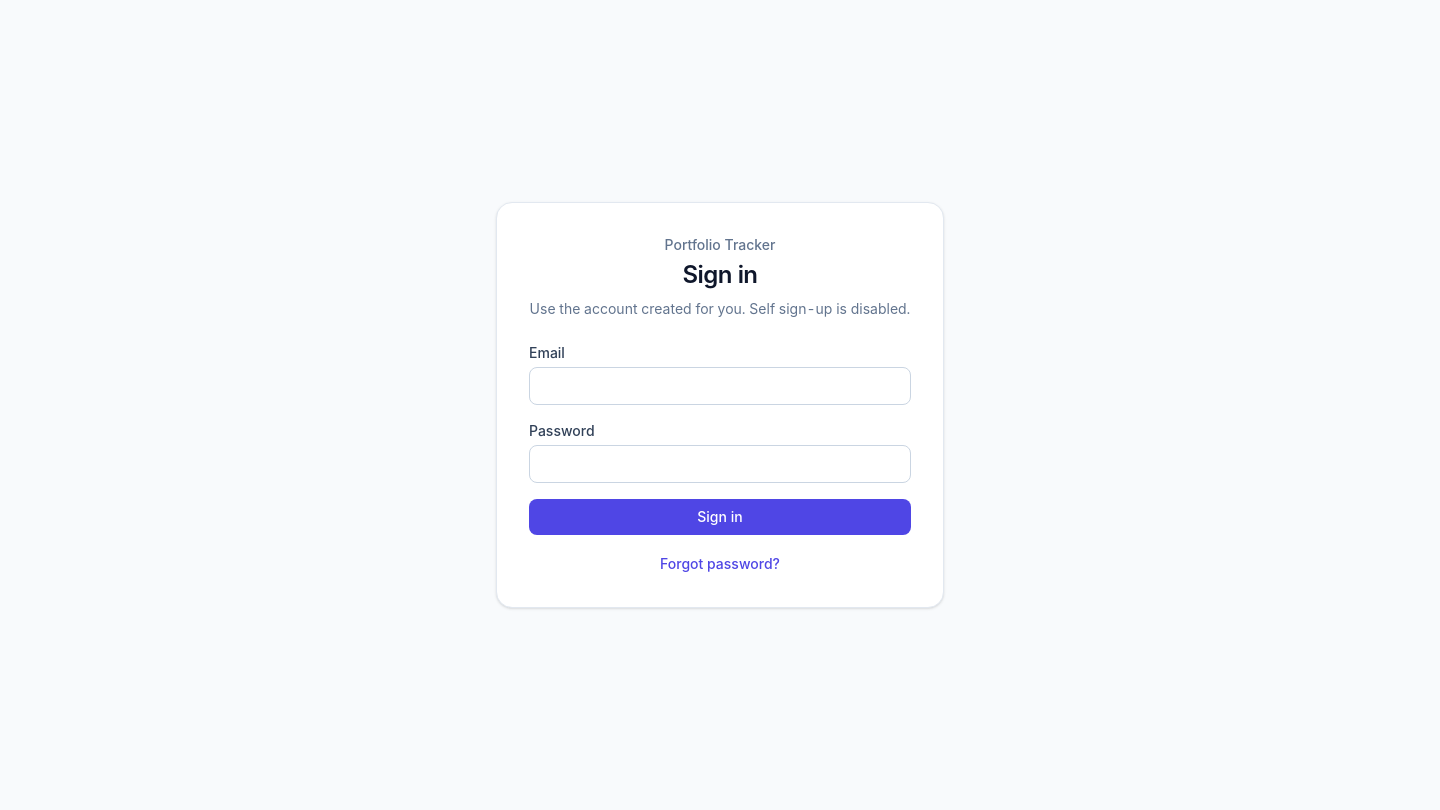
it: password sign-in › uses the typed email when the token carries none
Type "typed@example.com" into the field labelled "Email".
click(720, 386); type("typed@example.com")  # box top-left (529, 367), bottom-right (911, 405)
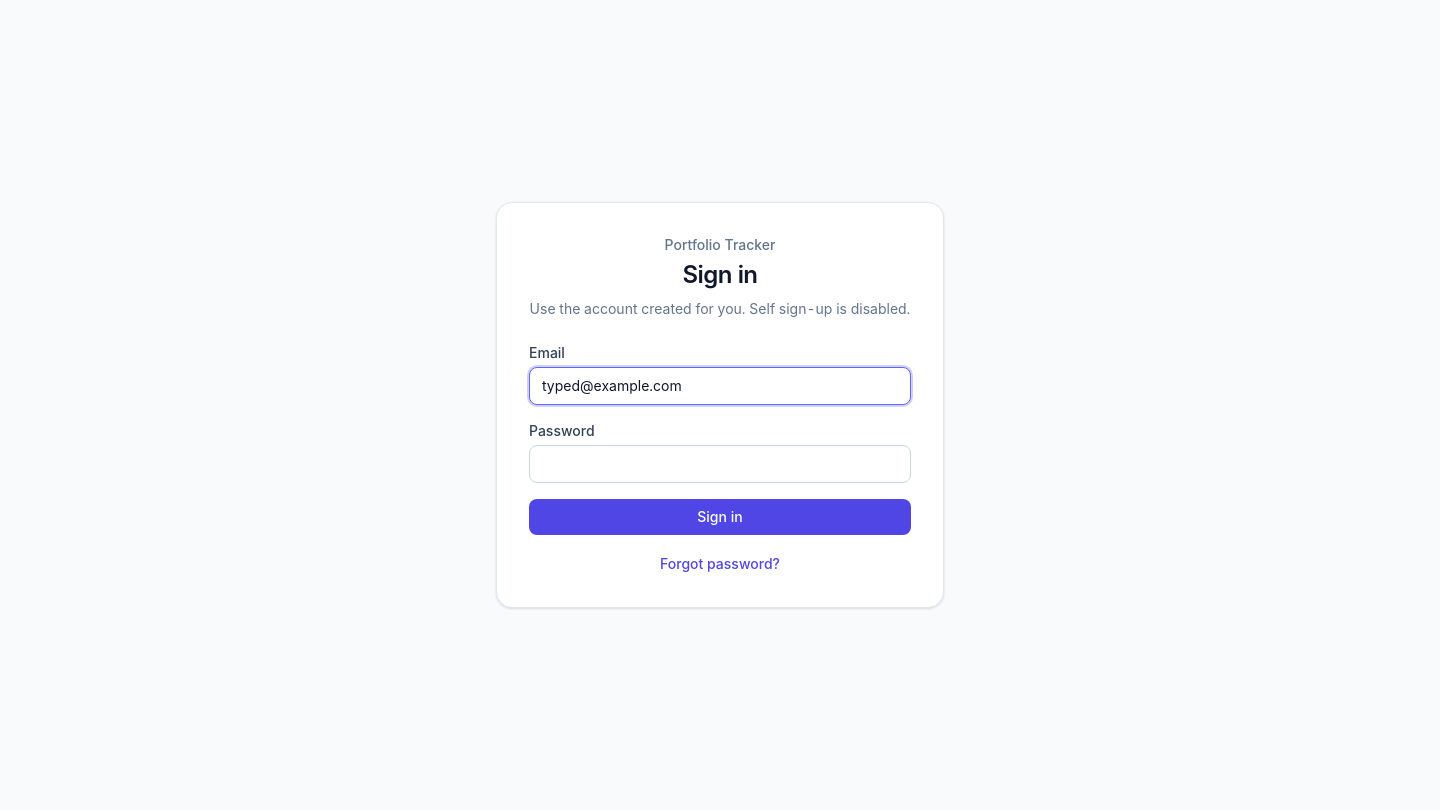
Type "whatever" into the password field labelled "Password".
click(720, 464); type("whatever")  # box top-left (529, 445), bottom-right (911, 483)
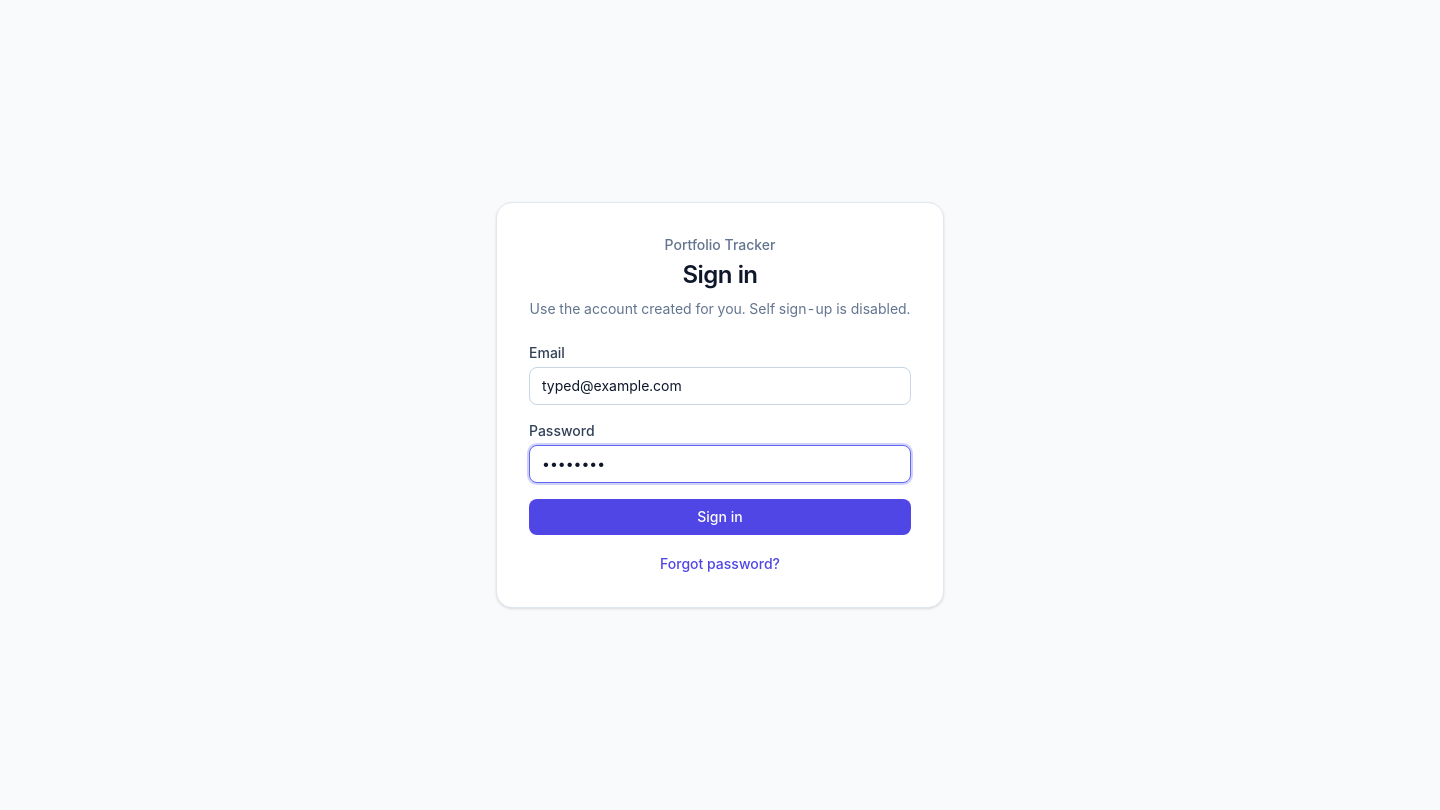
Click the button "Sign in".
click(720, 517)  # box top-left (529, 499), bottom-right (911, 535)
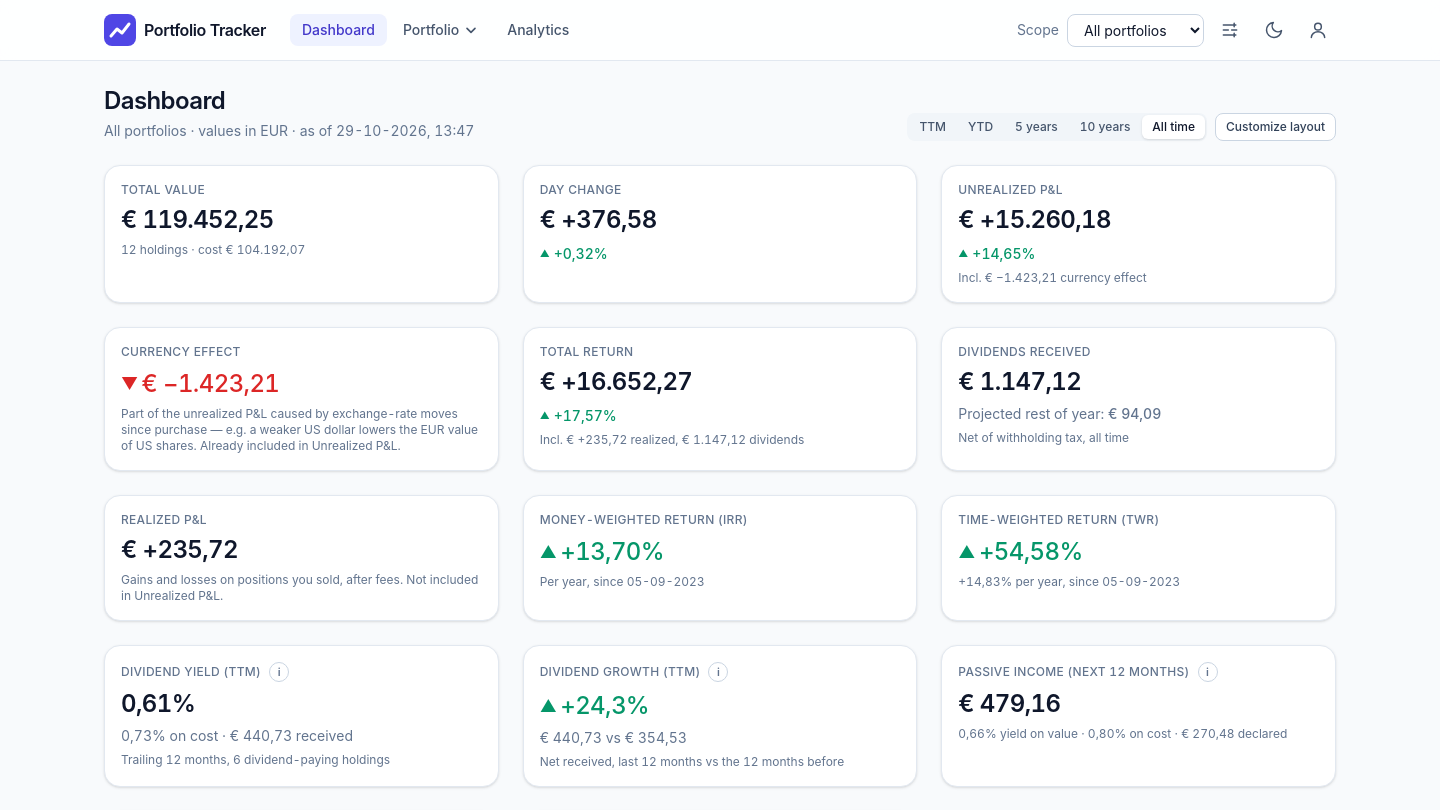
Click the button named "Account".
click(1318, 30)  # box top-left (1300, 12), bottom-right (1336, 48)
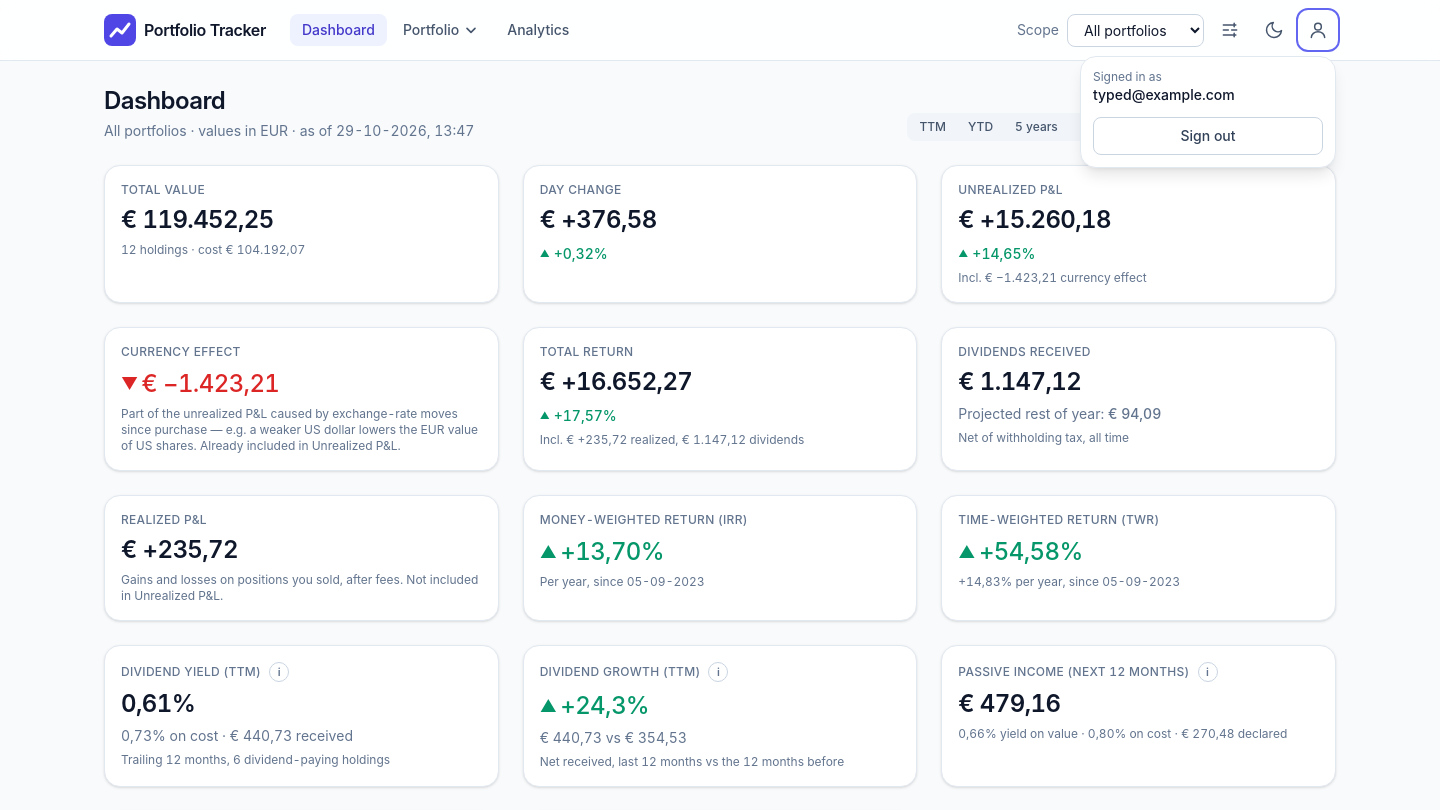
Now the text "typed@example.com" is shown, box top-left (1093, 86), bottom-right (1235, 103)
